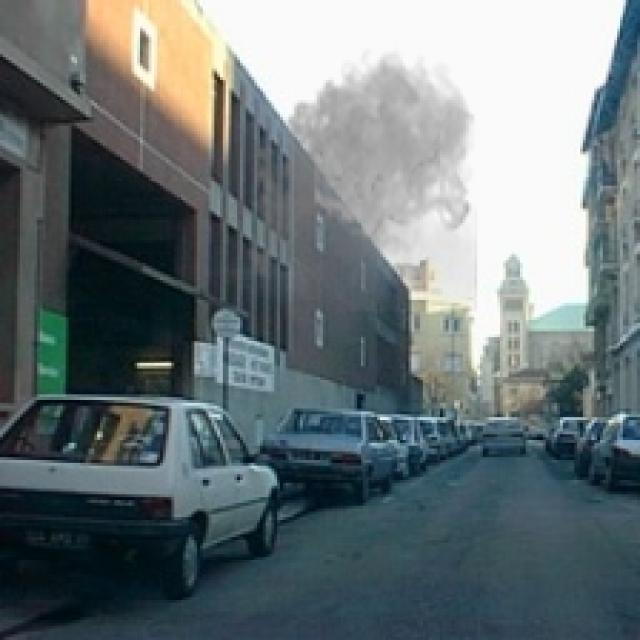smoke: (240, 40, 477, 311)
